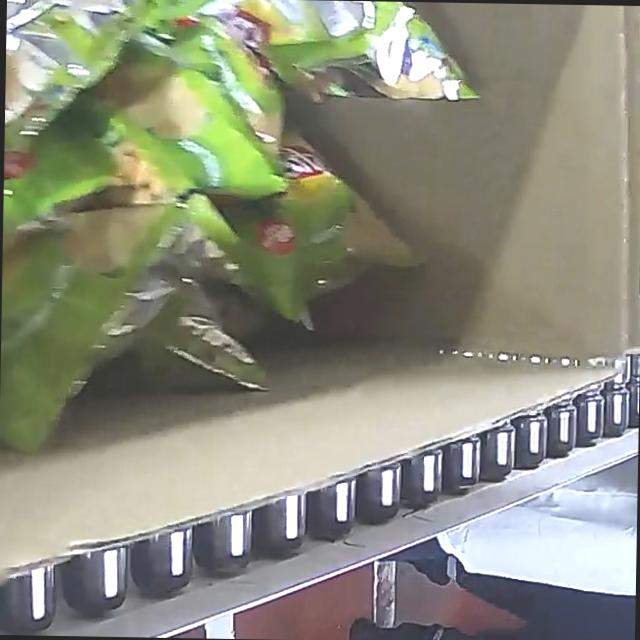yogurt: (0, 0, 483, 463)
